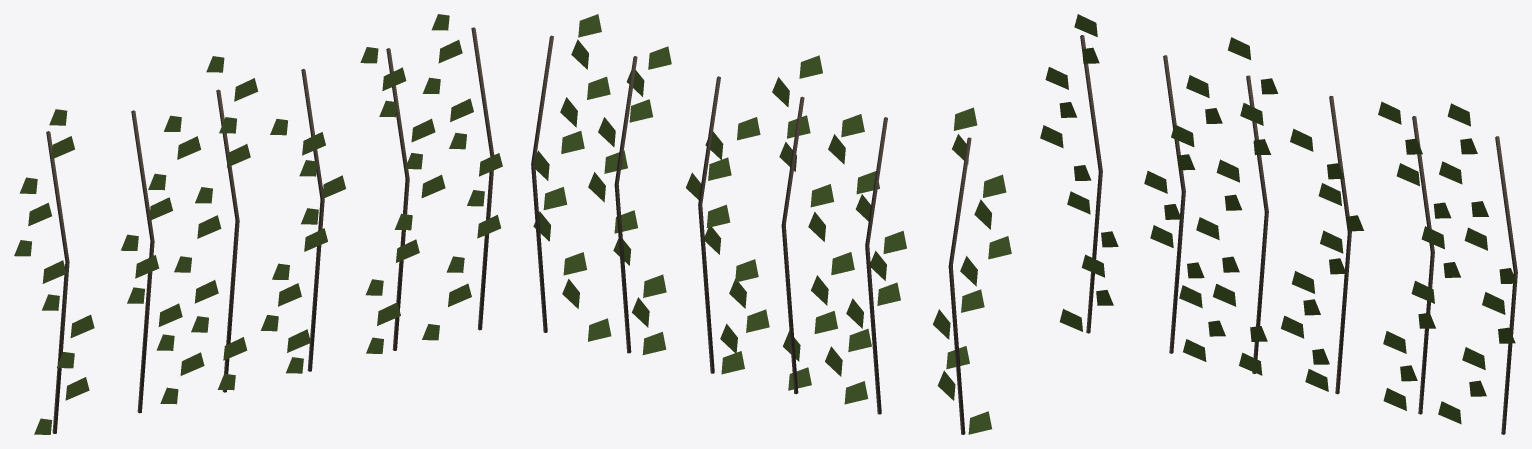
The model's file is city_greenery_established.glb.
The picture shows the model from 3 angles, left to right: view 1: azimuth 30°, elevation 25°; view 2: azimuth 150°, elevation 25°; view 3: azimuth 330°, elevation 25°; orthographic projection. The views are drawn at different scales.
Parts seen in each view (by area): view 1: CityGreeneryEstablished_Leaves, CityGreeneryEstablished_Stem0, CityGreeneryEstablished_Stem1, CityGreeneryEstablished_Stem5, CityGreeneryEstablished_Stem3, CityGreeneryEstablished_Stem2, CityGreeneryEstablished_Stem4; view 2: CityGreeneryEstablished_Leaves, CityGreeneryEstablished_Stem1, CityGreeneryEstablished_Stem3, CityGreeneryEstablished_Stem0, CityGreeneryEstablished_Stem2, CityGreeneryEstablished_Stem5, CityGreeneryEstablished_Stem4; view 3: CityGreeneryEstablished_Leaves, CityGreeneryEstablished_Stem5, CityGreeneryEstablished_Stem3, CityGreeneryEstablished_Stem1, CityGreeneryEstablished_Stem0, CityGreeneryEstablished_Stem4, CityGreeneryEstablished_Stem2.
Part boxes in pixels (<box>): CityGreeneryEstablished_Leaves: <box>14,14,502,434</box>; CityGreeneryEstablished_Stem0: <box>46,131,69,433</box>; CityGreeneryEstablished_Stem1: <box>131,110,154,413</box>; CityGreeneryEstablished_Stem5: <box>471,27,494,330</box>; CityGreeneryEstablished_Stem3: <box>301,69,324,371</box>; CityGreeneryEstablished_Stem2: <box>216,89,239,392</box>; CityGreeneryEstablished_Stem4: <box>386,48,409,350</box>; CityGreeneryEstablished_Leaves: <box>533,14,1011,434</box>; CityGreeneryEstablished_Stem1: <box>865,117,887,414</box>; CityGreeneryEstablished_Stem3: <box>698,76,720,373</box>; CityGreeneryEstablished_Stem0: <box>948,137,971,434</box>; CityGreeneryEstablished_Stem2: <box>781,96,804,394</box>; CityGreeneryEstablished_Stem5: <box>531,35,553,332</box>; CityGreeneryEstablished_Stem4: <box>614,56,637,353</box>; CityGreeneryEstablished_Leaves: <box>1040,14,1516,424</box>; CityGreeneryEstablished_Stem5: <box>1495,136,1517,434</box>; CityGreeneryEstablished_Stem3: <box>1329,96,1351,394</box>; CityGreeneryEstablished_Stem1: <box>1163,55,1185,353</box>; CityGreeneryEstablished_Stem0: <box>1080,35,1102,333</box>; CityGreeneryEstablished_Stem4: <box>1412,116,1434,414</box>; CityGreeneryEstablished_Stem2: <box>1246,75,1268,373</box>.
Bounding box in the file's own units: 3.83 × 2.58 × 0.0907.
